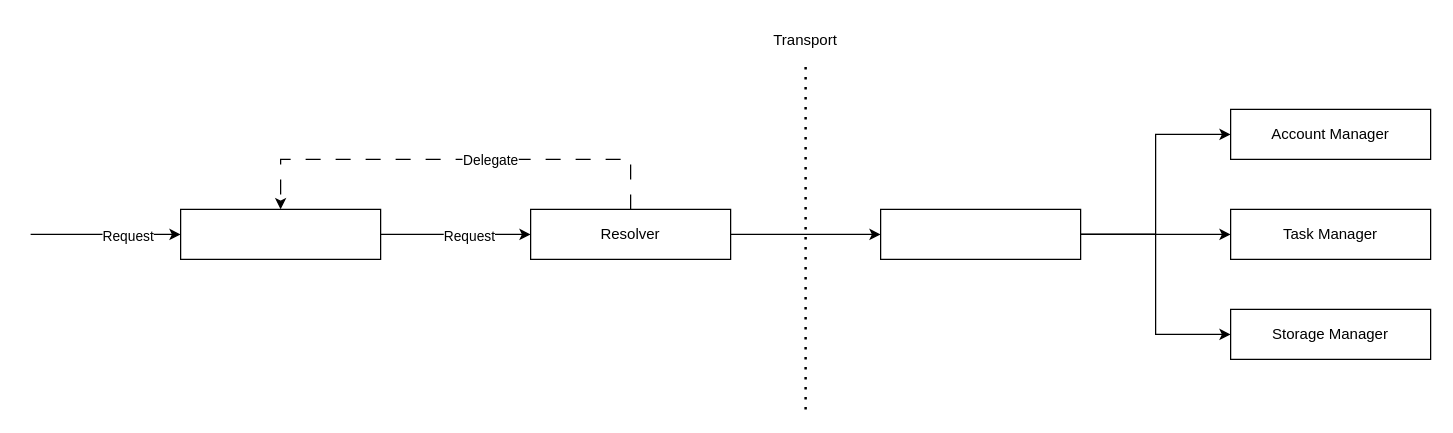
Some shapes in this 1453 by 433 pixel diagram are drawn without their labels. Here are the shapes that lost their labels. From the top down, the centre of each, then its label:
[280,233]: gRPC Server
[980,233]: Domain Aggregator
